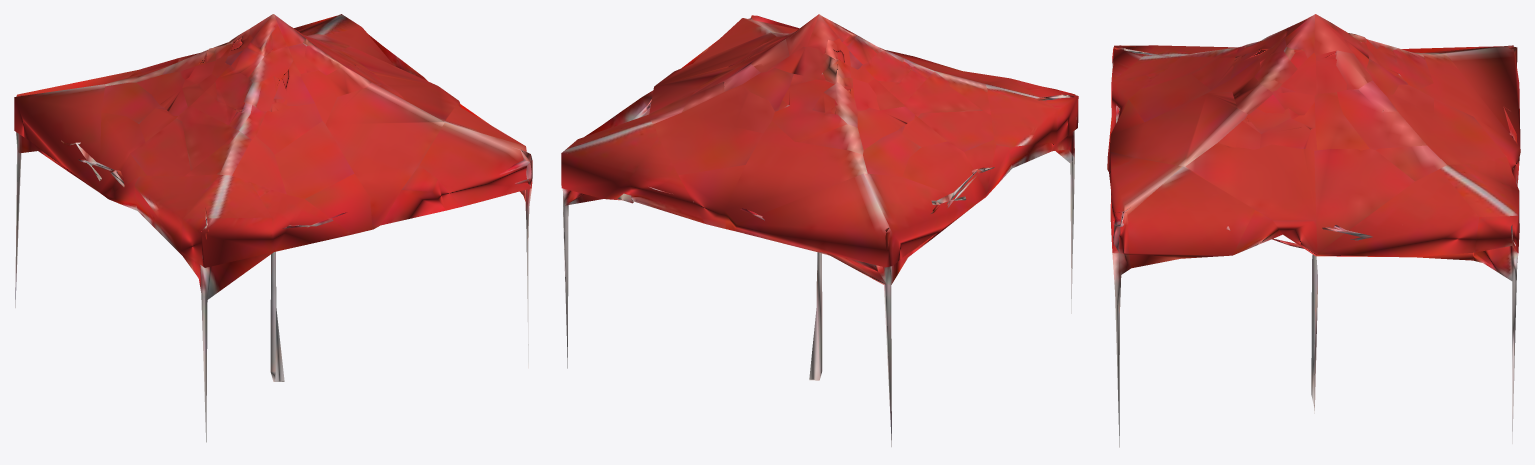
Rendered from control-tent.glb.
3 renders of one model, left to right at view 1: azimuth 30°, elevation 25°; view 2: azimuth 150°, elevation 25°; view 3: azimuth 270°, elevation 25°, orthographic. The views are drawn at different scales.
Parts seen in each view (by area): view 1: tripo_node_d7aa89a5-ca58-474d-ad6e-63c5afafaa44; view 2: tripo_node_d7aa89a5-ca58-474d-ad6e-63c5afafaa44; view 3: tripo_node_d7aa89a5-ca58-474d-ad6e-63c5afafaa44.
Boxes of the visible parts, x1,y1,x2,y2 form: tripo_node_d7aa89a5-ca58-474d-ad6e-63c5afafaa44: (14, 14, 532, 442); tripo_node_d7aa89a5-ca58-474d-ad6e-63c5afafaa44: (561, 14, 1078, 446); tripo_node_d7aa89a5-ca58-474d-ad6e-63c5afafaa44: (1107, 14, 1520, 447).
Size of the model in its own units: 0.9443 by 0.9999 by 0.9482.
1 material, 1 textured.
